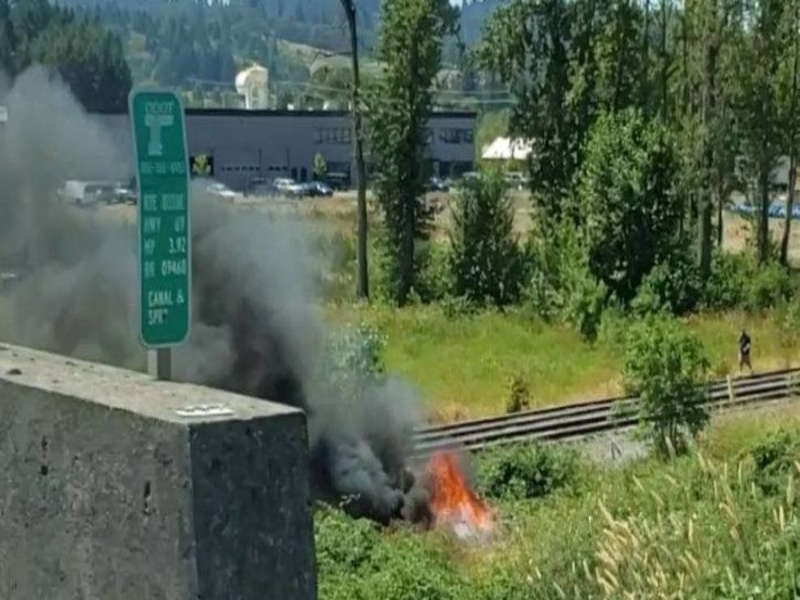smoke: (1, 72, 337, 408)
